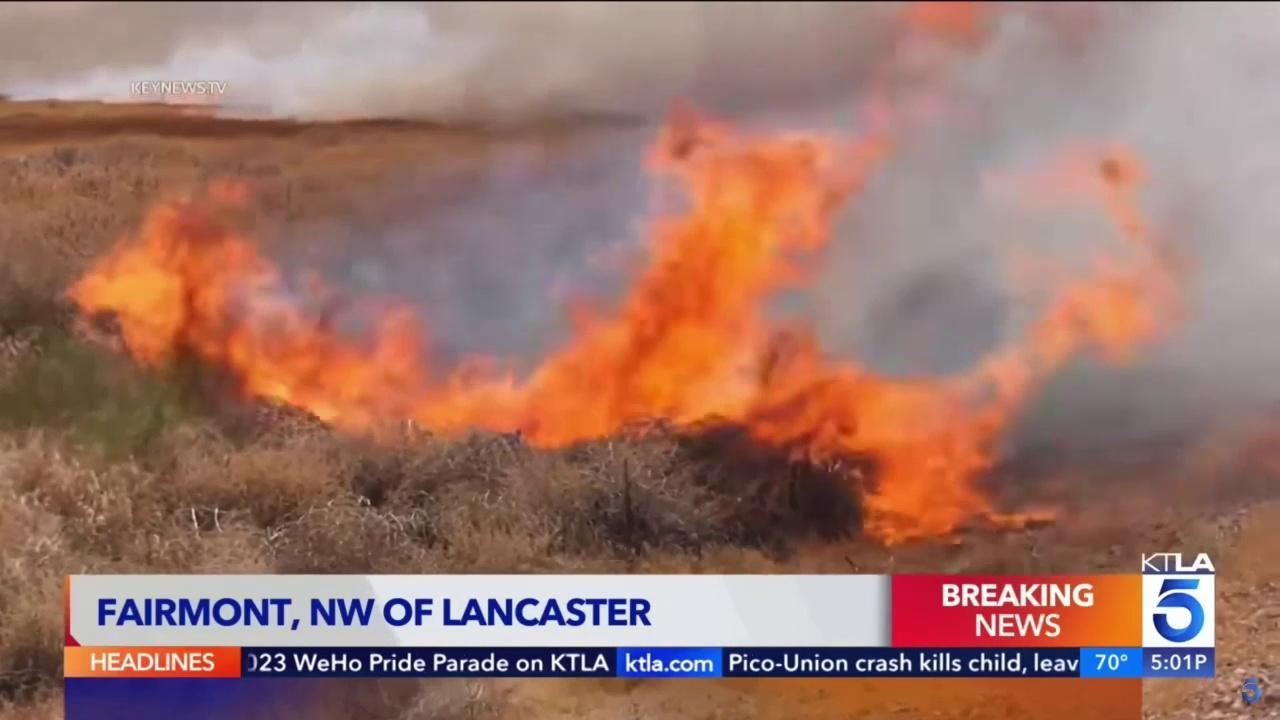fire: (64, 0, 1208, 546)
smoke: (0, 0, 1280, 482)
